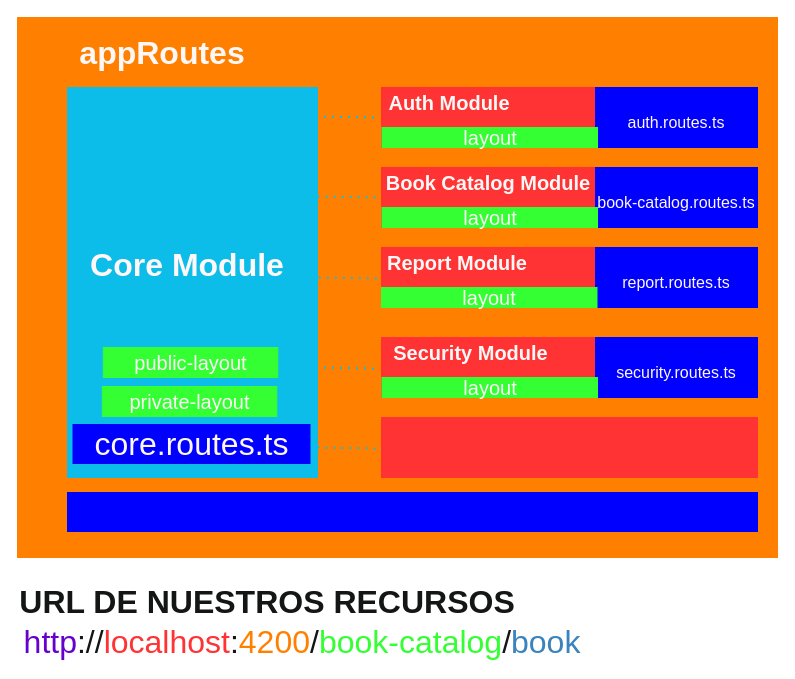
Image size: 795x679. Some labels were removed from this diagram. Here are the shapes that lost their labels. From the top down, the centre of each, then its label:
the point at 569,447: Shared Module
the point at 412,512: app.routes.ts
